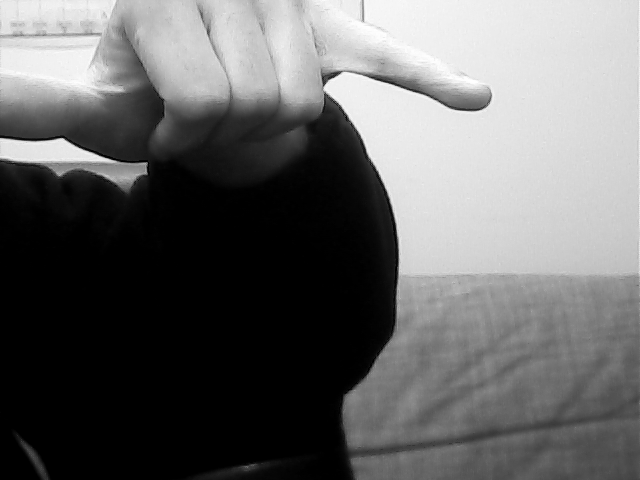aloha: (1, 1, 493, 166)
